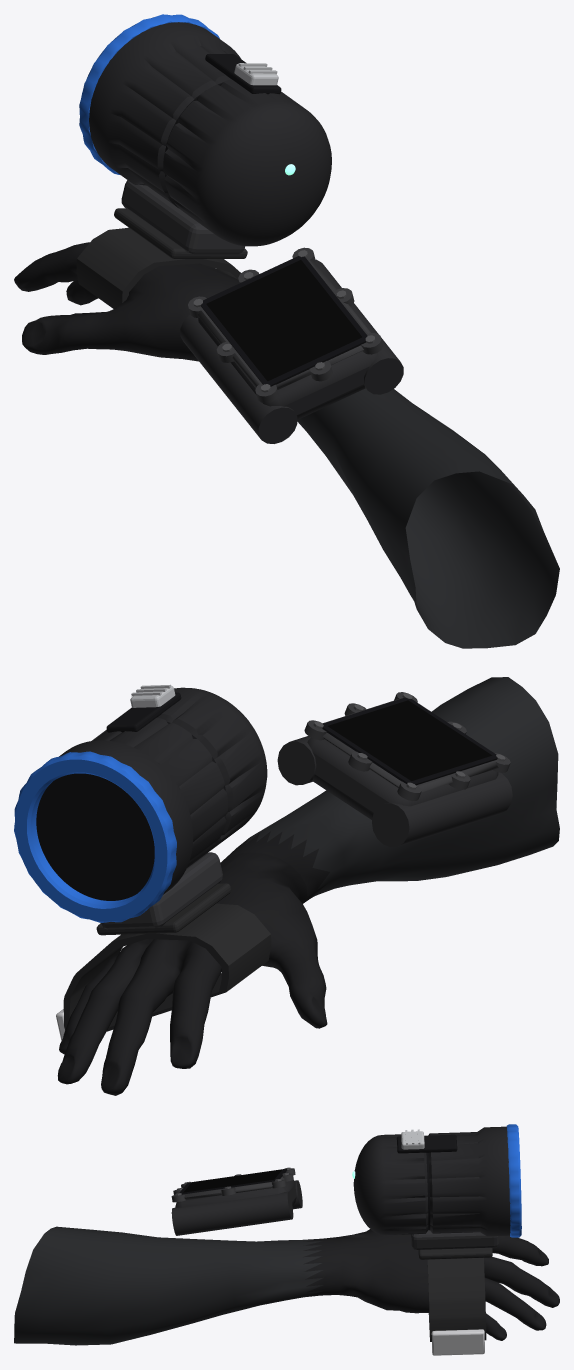
Rendered from diver-arm.glb.
The picture shows the model from 3 angles, top to bottom: view 1: azimuth 30°, elevation 25°; view 2: azimuth 150°, elevation 25°; view 3: azimuth 270°, elevation 25°; orthographic projection. The views are drawn at different scales.
Parts seen in each view (by area): view 1: diver-arm, dive-light, computer-screen, strap, computer-bar.001, computer-case, computer-glass, computer-bar, computer-bezel; view 2: diver-arm, dive-light, strap, computer-screen, computer-bar.001, computer-case, computer-glass, computer-bar, computer-bezel; view 3: diver-arm, dive-light, strap, computer-bar, Cube, computer-case, computer-screen, computer-bezel, computer-glass.
Part boxes in pixels (x1,y1,x2,y2): diver-arm: (14, 242, 559, 648); dive-light: (79, 14, 331, 258); computer-screen: (206, 260, 361, 381); strap: (76, 227, 240, 308); computer-bar.001: (180, 315, 297, 443); computer-case: (198, 318, 377, 419); computer-glass: (200, 256, 367, 386); computer-bar: (315, 259, 403, 394); computer-bezel: (197, 260, 370, 389); diver-arm: (57, 677, 559, 1095); dive-light: (14, 684, 267, 935); strap: (63, 903, 271, 1031); computer-screen: (327, 700, 492, 781); computer-bar.001: (372, 772, 512, 847); computer-case: (307, 737, 498, 819); computer-glass: (322, 697, 497, 785); computer-bar: (277, 736, 316, 785); computer-bezel: (323, 699, 498, 792); diver-arm: (14, 1226, 559, 1345); dive-light: (352, 1124, 521, 1259); strap: (427, 1257, 486, 1341); computer-bar: (171, 1191, 293, 1235); Cube: (431, 1329, 484, 1355); computer-case: (175, 1180, 296, 1207); computer-screen: (183, 1169, 281, 1192); computer-bezel: (184, 1171, 289, 1200); computer-glass: (179, 1169, 286, 1194).
Bounding box in the file's own units: 0.1078 × 0.1419 × 0.3101.
